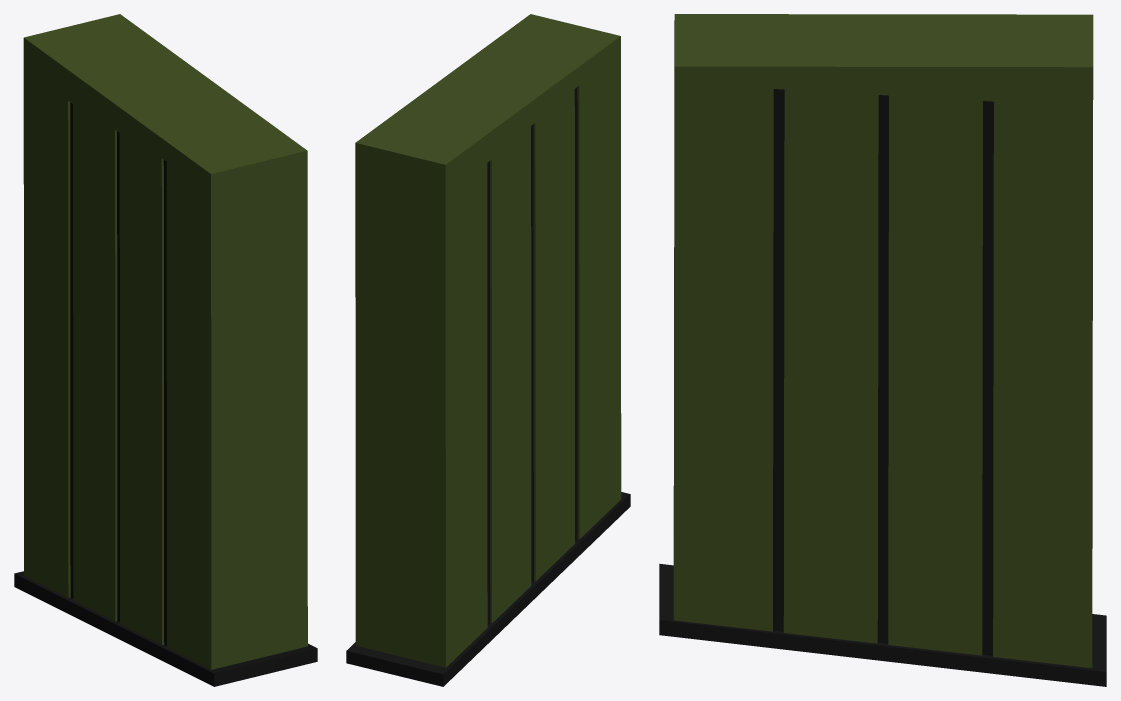
Rendered from mag_3.fbx.
3 renders of one model, left to right at view 1: azimuth 30°, elevation 25°; view 2: azimuth 150°, elevation 25°; view 3: azimuth 270°, elevation 25°, orthographic. The views are drawn at different scales.
Visible parts, largest first — view 1: mag_3; view 2: mag_3; view 3: mag_3.
Boxes of the visible parts, x1,y1,x2,y2 form: mag_3: (14, 14, 317, 686); mag_3: (346, 14, 630, 686); mag_3: (659, 14, 1106, 686).
Bounding box in the file's own units: 102 × 519 × 340.
